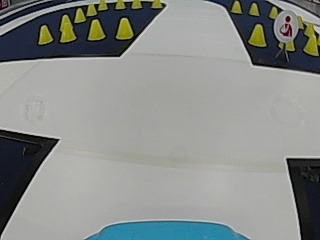cone: (303, 25, 318, 55), (59, 16, 76, 41), (87, 19, 105, 40), (116, 18, 133, 40), (249, 24, 266, 46), (38, 25, 53, 44), (74, 7, 86, 22), (248, 2, 260, 15), (86, 3, 97, 15), (231, 1, 242, 13), (268, 6, 278, 18), (114, 0, 125, 10), (150, 0, 162, 9), (131, 0, 142, 9), (98, 0, 107, 10)
patient: (274, 11, 296, 40)
